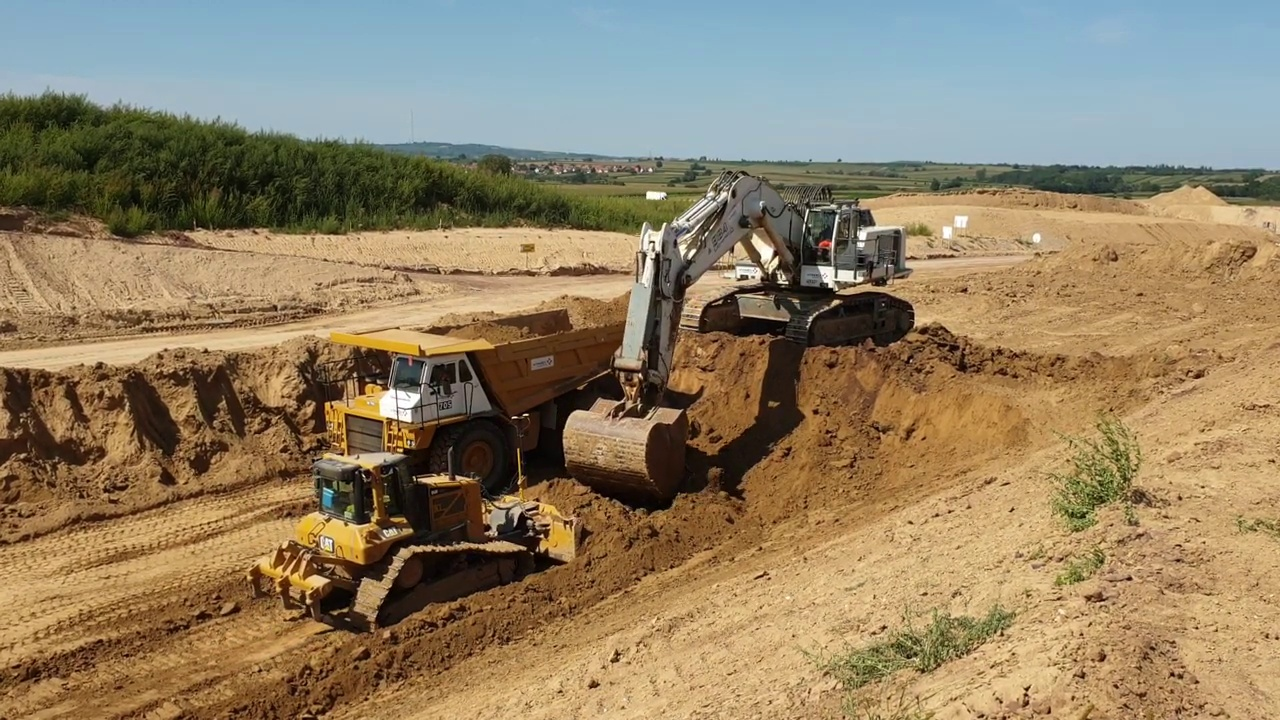bulldozer: (245, 407, 583, 637)
excavator: (557, 164, 919, 502)
truck: (298, 300, 684, 514)
